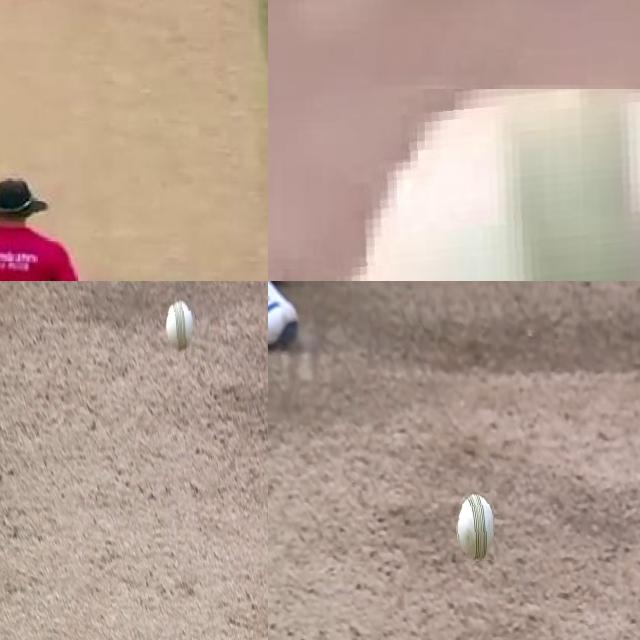Cricket ball: (331, 89, 640, 281), (456, 493, 494, 563), (163, 299, 196, 355)
